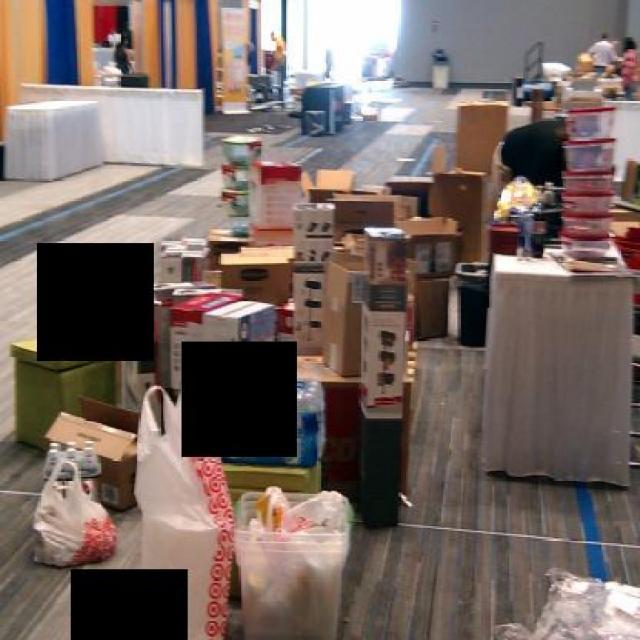plastic bag: (131, 354, 240, 638), (29, 455, 117, 568), (251, 488, 355, 540)
